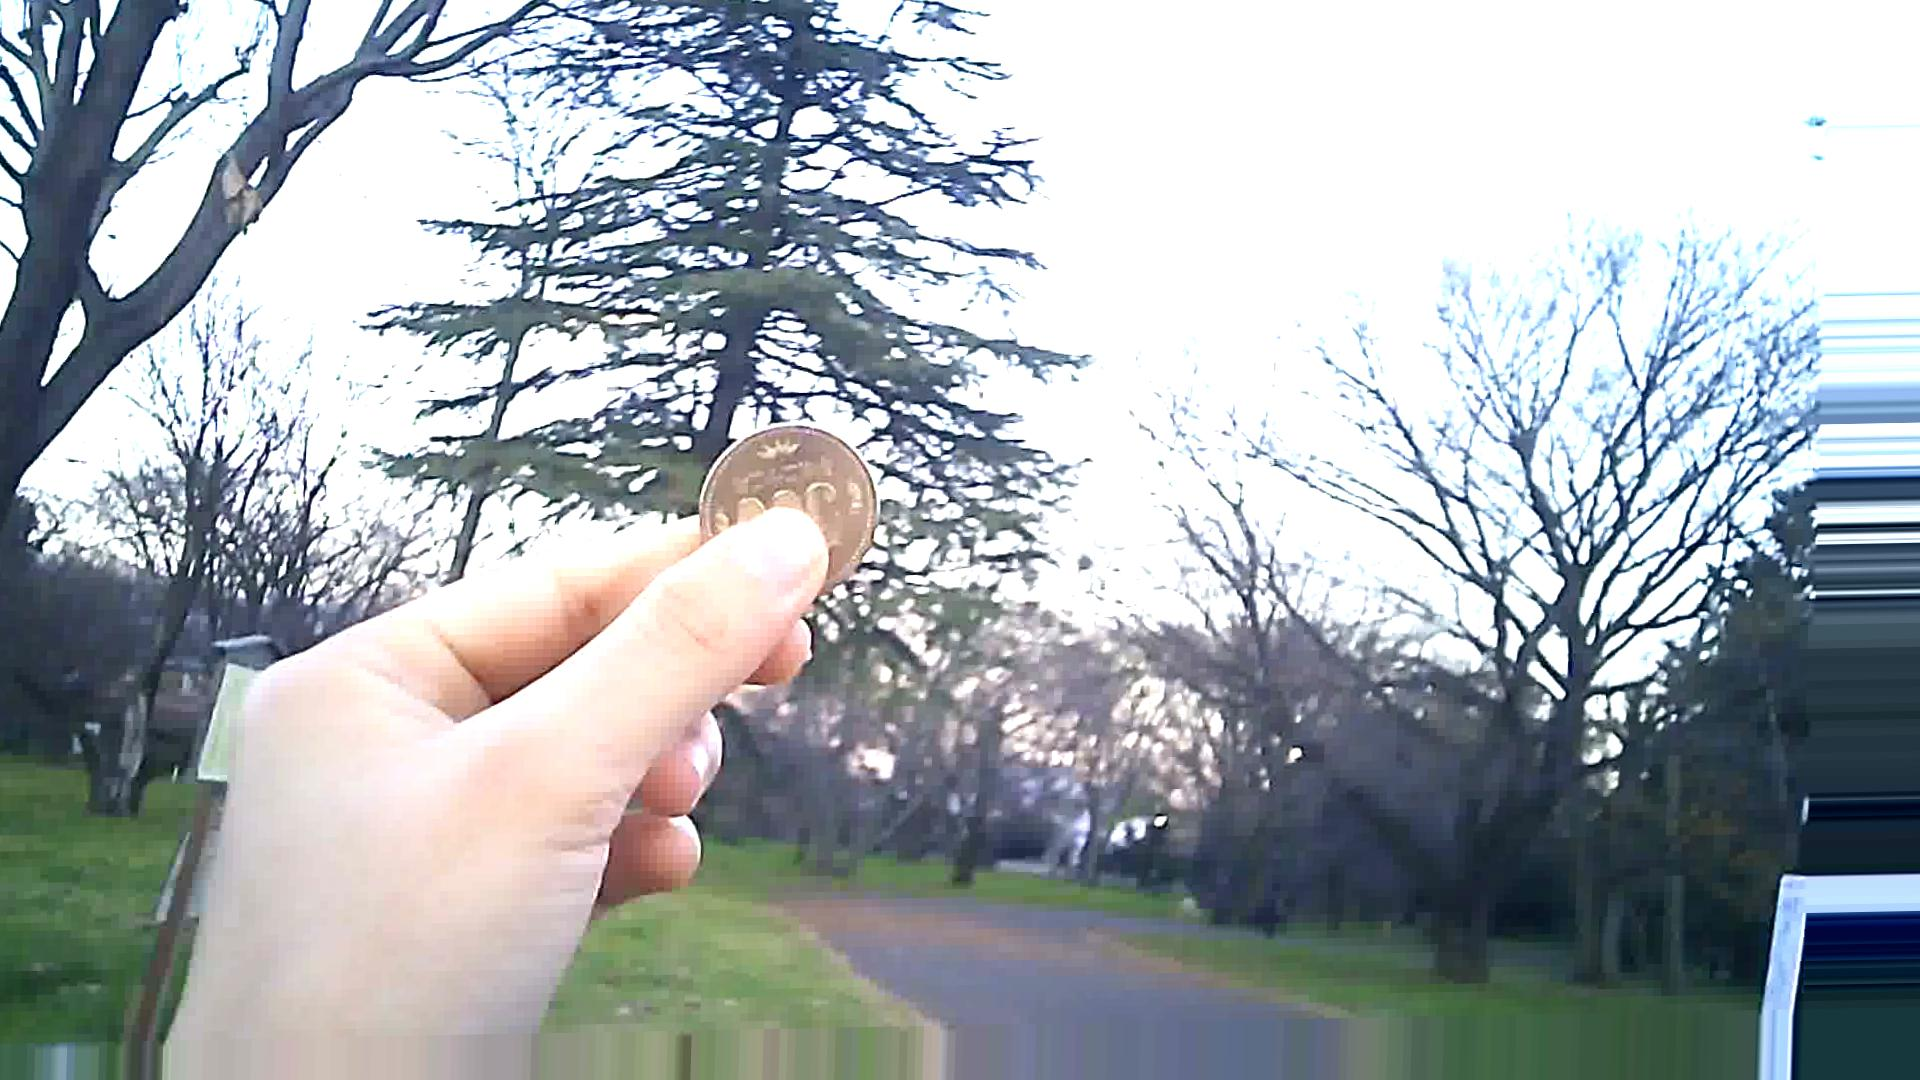500 Yen: (684, 411, 884, 611)
